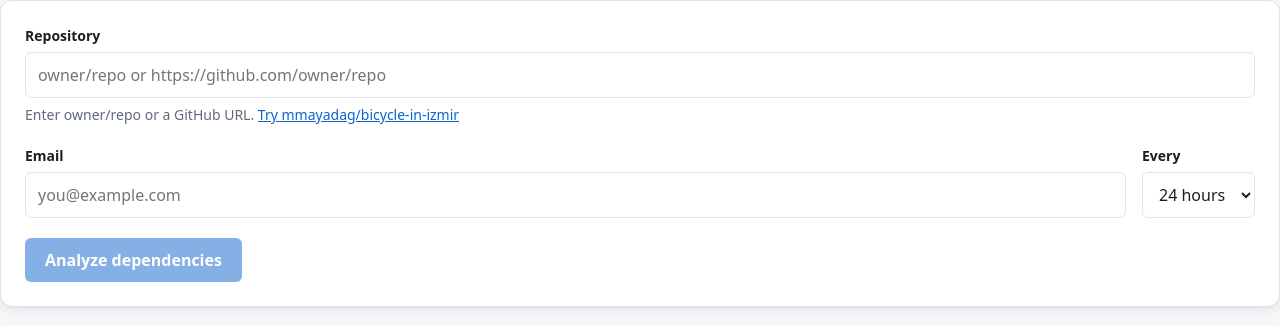
RepositoryCheck › marks a repository GitHub does not know as invalid
Type "mmayadag/missing" into the field labelled "Repository" at (640, 75), box [25,52,1255,98]
Wait 300 ms
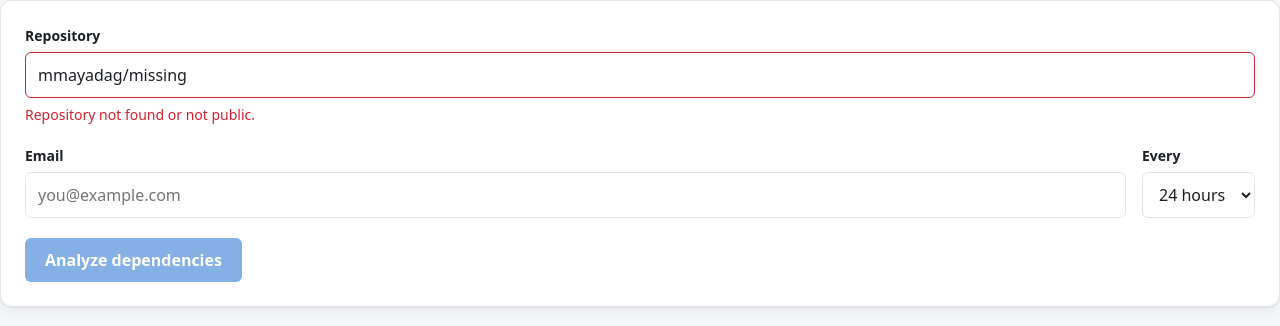
Expected: the text "Repository not found or not public." is shown, [25,105,255,124]
